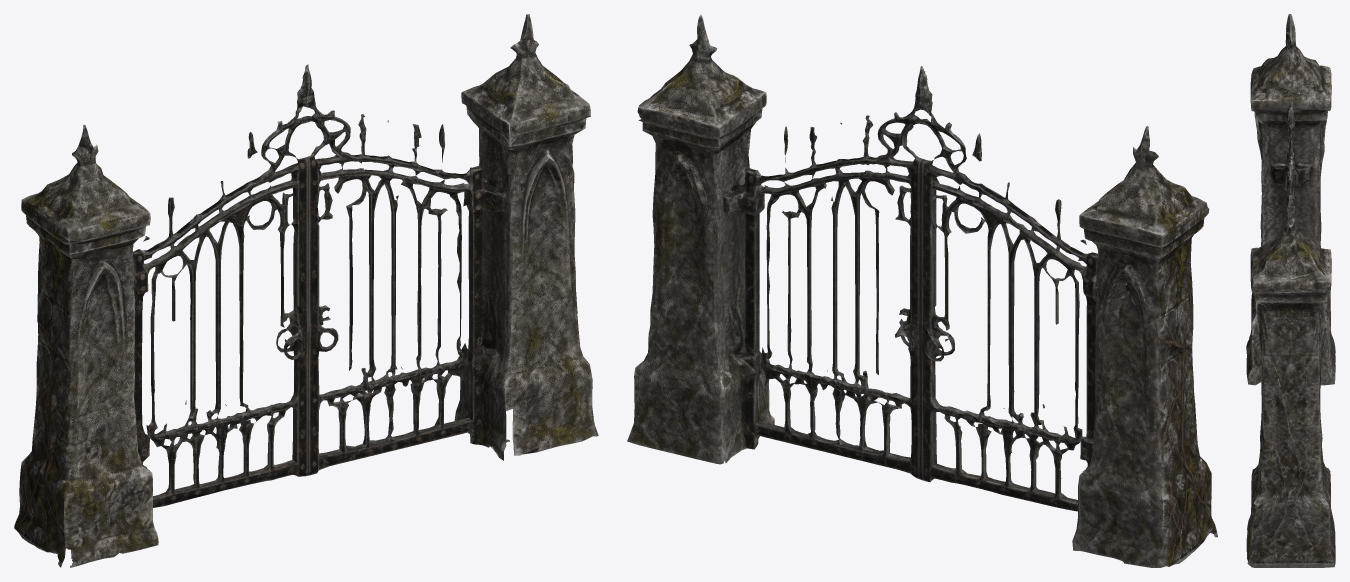
3 renders of one model, left to right at view 1: azimuth 30°, elevation 25°; view 2: azimuth 150°, elevation 25°; view 3: azimuth 270°, elevation 25°, orthographic. The views are drawn at different scales.
Size of the model in its own units: 1.89 by 1.41 by 0.3217.
Materials: 1 (1 with a texture image).
